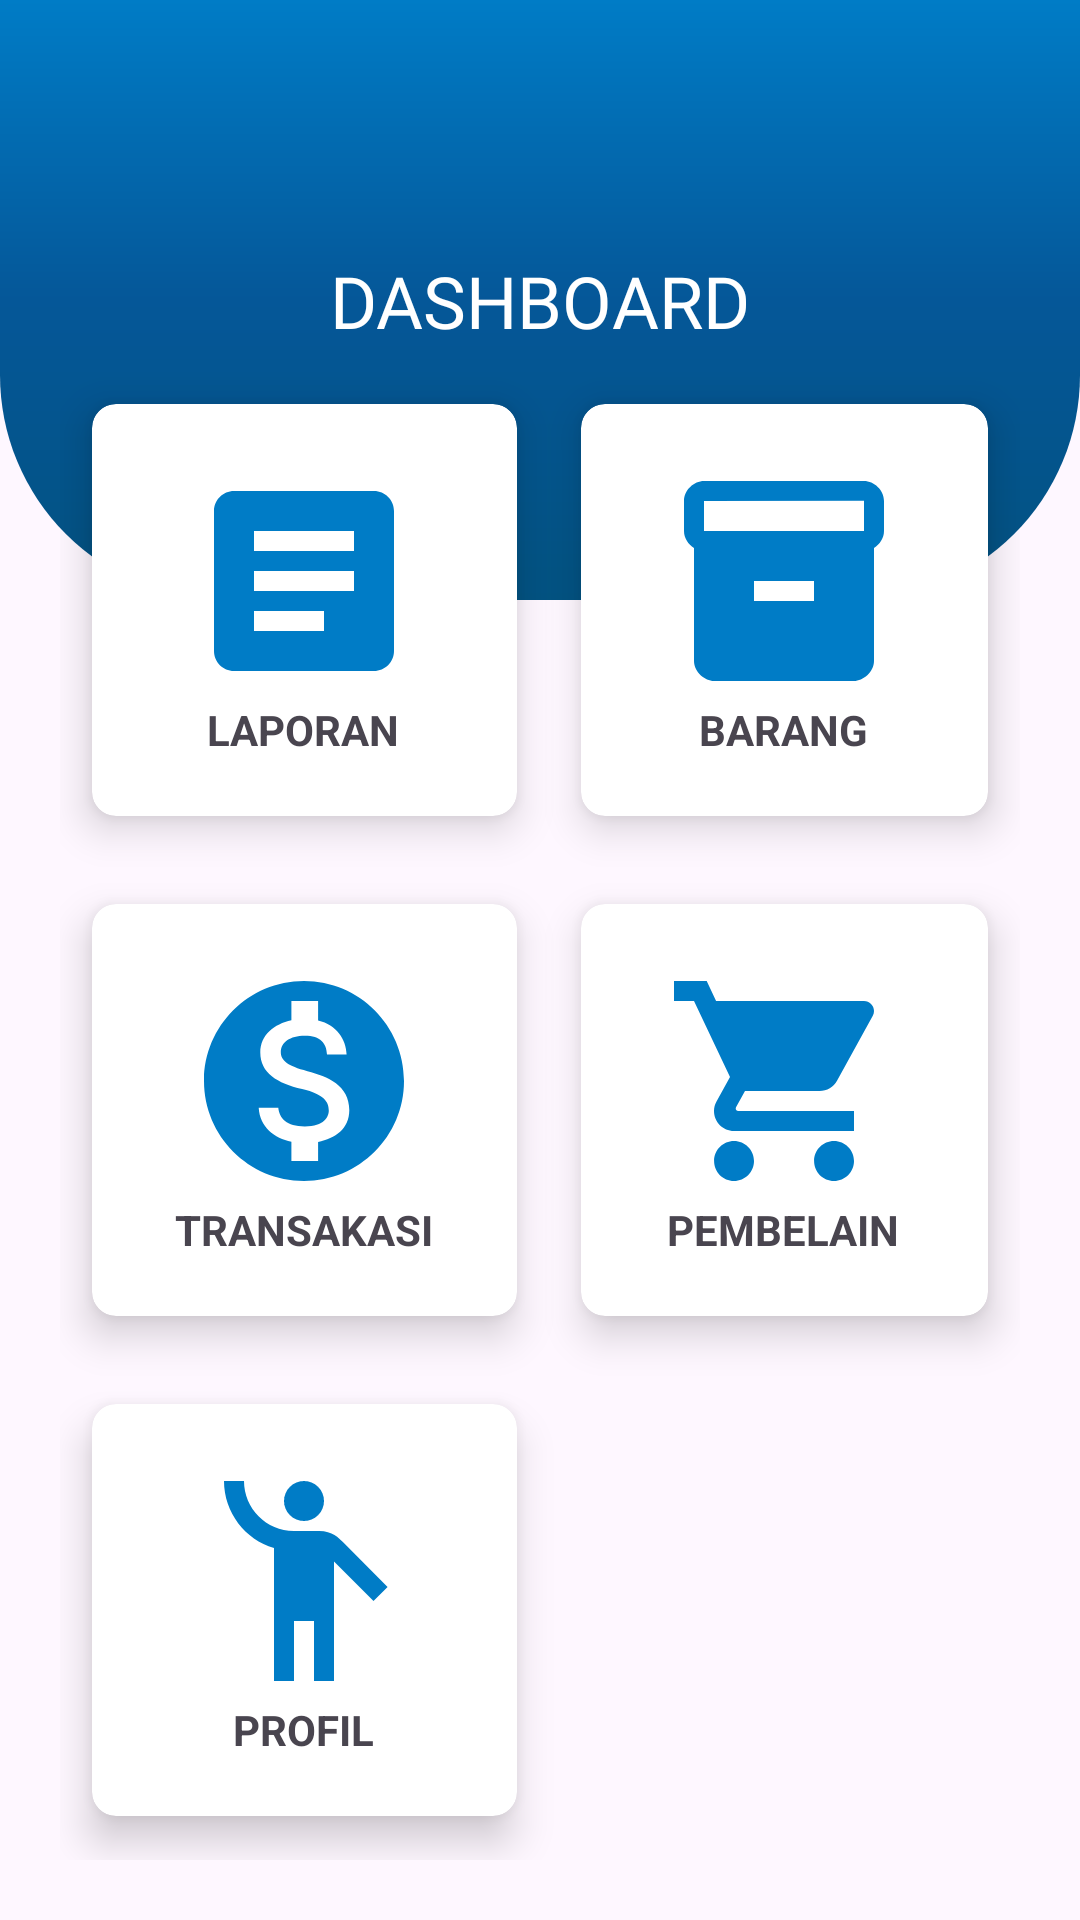

Where to tap for icons on this 1080x1920 app screen, as (x,y):
document: (304,581)
